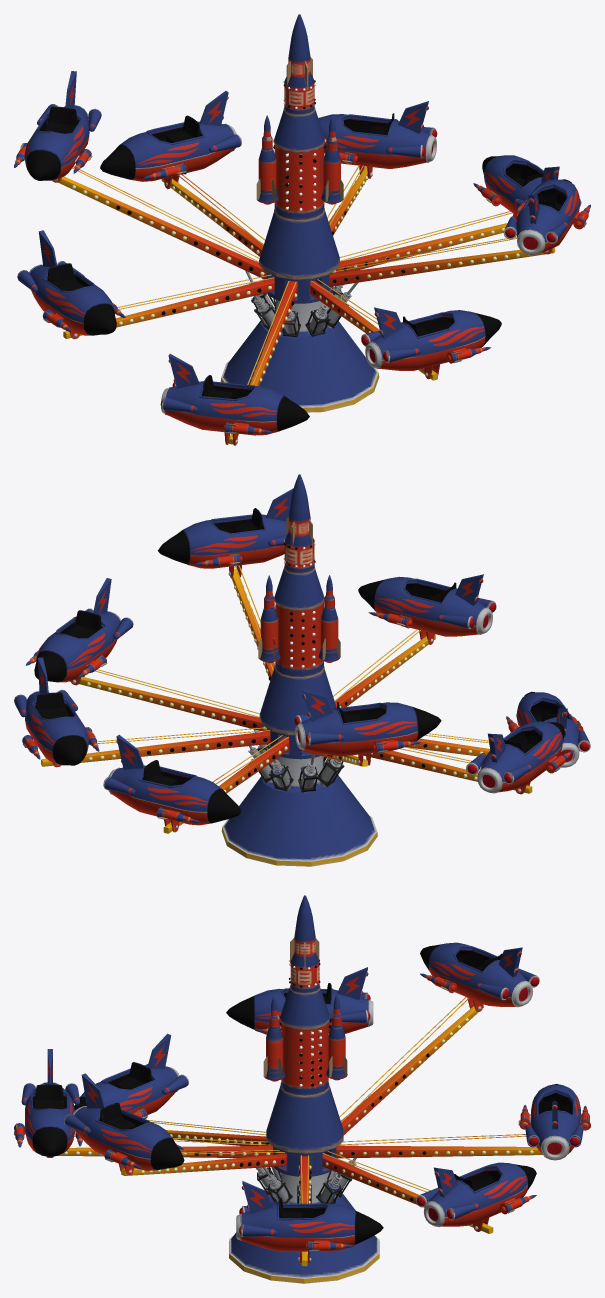
The model's file is Rocket_Carousel_LOD0.fbx.
The picture shows the model from 3 angles, top to bottom: view 1: azimuth 30°, elevation 25°; view 2: azimuth 150°, elevation 25°; view 3: azimuth 270°, elevation 25°; orthographic projection. The views are drawn at different scales.
Parts seen in each view (by area): view 1: RocketCarousel_Base, Rocket_1, Rocket_2, Rocket_6, Rocket_5, Rocket_8, Rocket_7, Rocket_3, RocketArm_7, Rocket_4, RocketArm_3, RocketArm_8 (+5 smaller); view 2: RocketCarousel_Base, Rocket_7, Rocket_2, Rocket_6, Rocket_3, Rocket_4, Rocket_8, Rocket_5, RocketArm_4, RocketArm_5, Rocket_1, RocketArm_2 (+4 smaller); view 3: RocketCarousel_Base, Rocket_4, Rocket_3, Rocket_5, Rocket_7, Rocket_2, Rocket_1, Rocket_6, Rocket_8, RocketArm_6, RocketArm_7, RocketArm_3 (+4 smaller).
Boxes of the visible parts, <box> form: RocketCarousel_Base: <box>220,14,379,412</box>; Rocket_1: <box>160,353,309,445</box>; Rocket_2: <box>361,307,501,379</box>; Rocket_6: <box>100,91,241,188</box>; Rocket_5: <box>318,101,437,178</box>; Rocket_8: <box>17,230,125,339</box>; Rocket_7: <box>14,71,101,182</box>; Rocket_3: <box>503,179,590,255</box>; RocketArm_7: <box>59,166,266,279</box>; Rocket_4: <box>473,155,581,213</box>; RocketArm_3: <box>329,236,555,286</box>; RocketArm_8: <box>63,274,274,338</box>; RocketCarousel_Base: <box>221,474,377,866</box>; Rocket_7: <box>294,689,441,766</box>; Rocket_2: <box>358,574,496,644</box>; Rocket_6: <box>103,734,241,832</box>; Rocket_3: <box>158,488,293,578</box>; Rocket_4: <box>25,578,133,685</box>; Rocket_8: <box>466,721,573,794</box>; Rocket_5: <box>14,657,99,767</box>; RocketArm_4: <box>69,669,266,731</box>; RocketArm_5: <box>41,727,270,766</box>; Rocket_1: <box>506,691,590,767</box>; RocketArm_2: <box>333,629,435,707</box>; RocketCarousel_Base: <box>229,895,379,1283</box>; Rocket_4: <box>236,1181,383,1263</box>; Rocket_3: <box>64,1073,184,1175</box>; Rocket_5: <box>416,1162,536,1231</box>; Rocket_7: <box>420,942,539,1011</box>; Rocket_2: <box>14,1049,82,1157</box>; Rocket_1: <box>74,1033,188,1118</box>; Rocket_6: <box>518,1084,590,1160</box>; Rocket_8: <box>226,967,373,1034</box>; RocketArm_6: <box>336,1134,542,1158</box>; RocketArm_7: <box>339,997,483,1134</box>; RocketArm_3: <box>121,1150,286,1175</box>.
Bounding box in the file's own units: 1101 × 745 × 1096.
3 materials, 1 textured.
